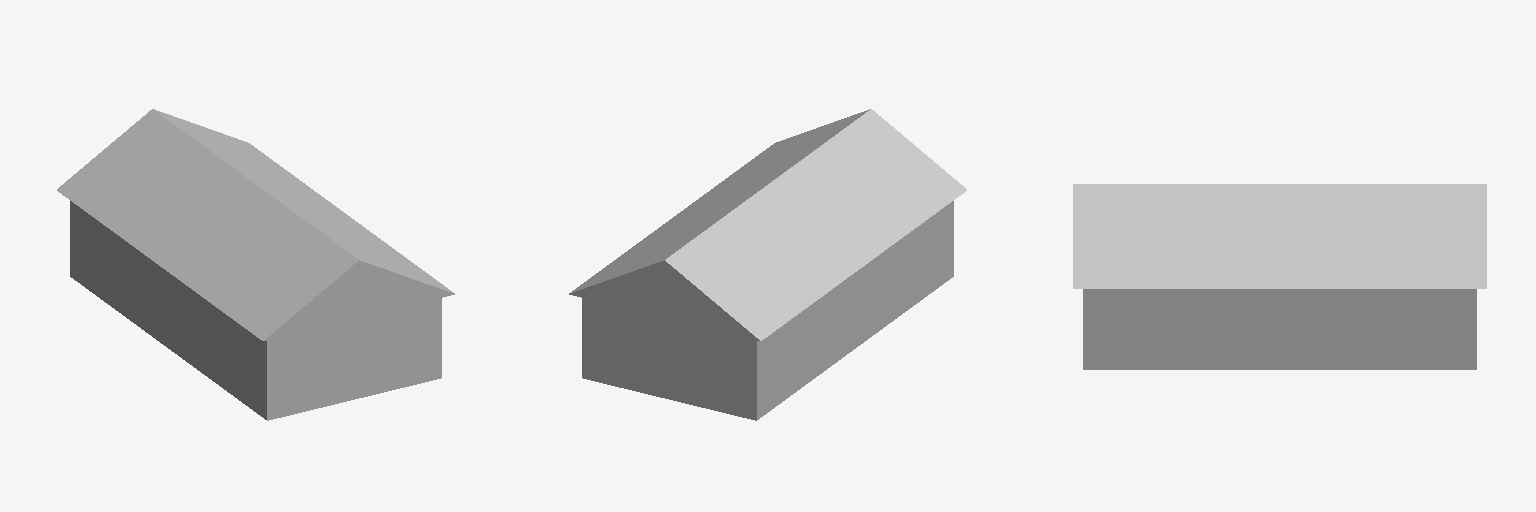
File: cabin.obj
The picture shows the model from 3 angles: view 1: azimuth 30°, elevation 25°; view 2: azimuth 150°, elevation 25°; view 3: azimuth 270°, elevation 25°; orthographic projection.
Visible parts, largest first — view 1: Cube; view 2: Cube; view 3: Cube.
Part boxes in pixels (x1,y1,x2,y2): Cube: (57,109,454,420); Cube: (569,109,966,420); Cube: (1073,184,1486,369).
Size of the model in its own units: 17.06 by 12.08 by 31.67.